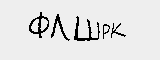І: (99, 25, 111, 40)
О: (112, 23, 131, 35)
Р: (27, 23, 41, 40)
С: (83, 26, 101, 42)
Т: (40, 26, 59, 43)
Ч: (61, 27, 80, 44)
